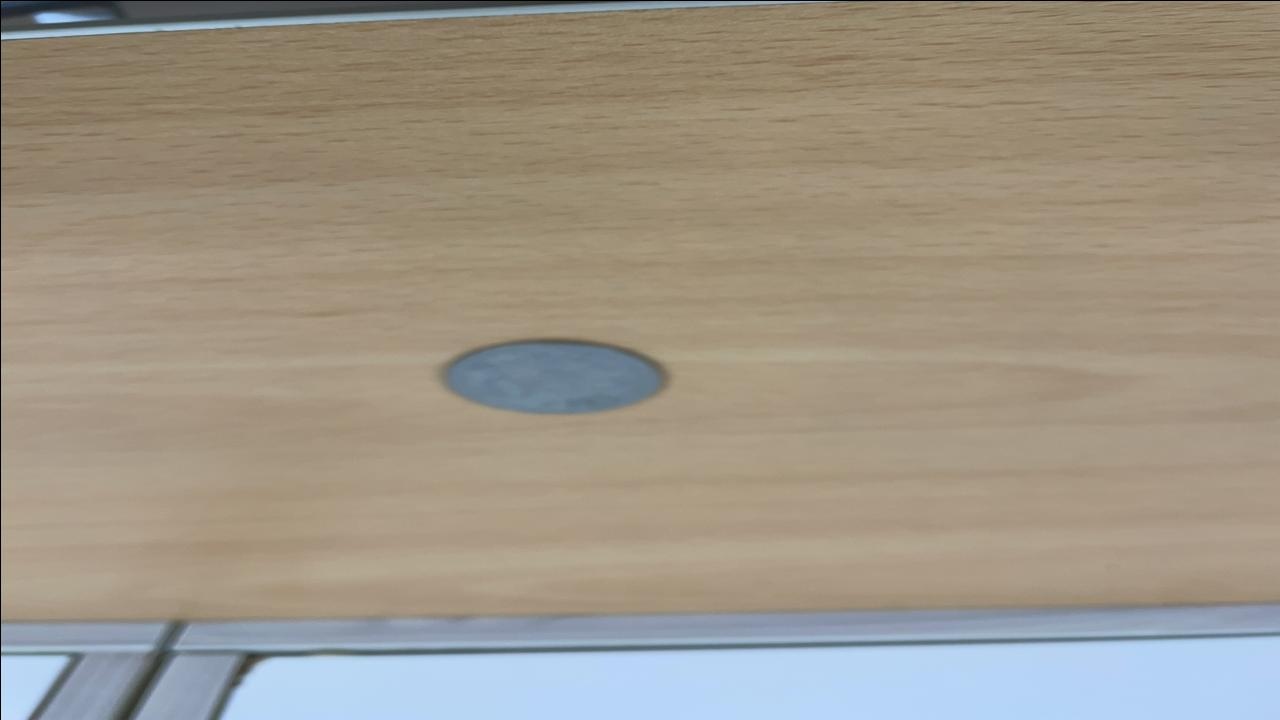coin: (438, 338, 670, 416)
